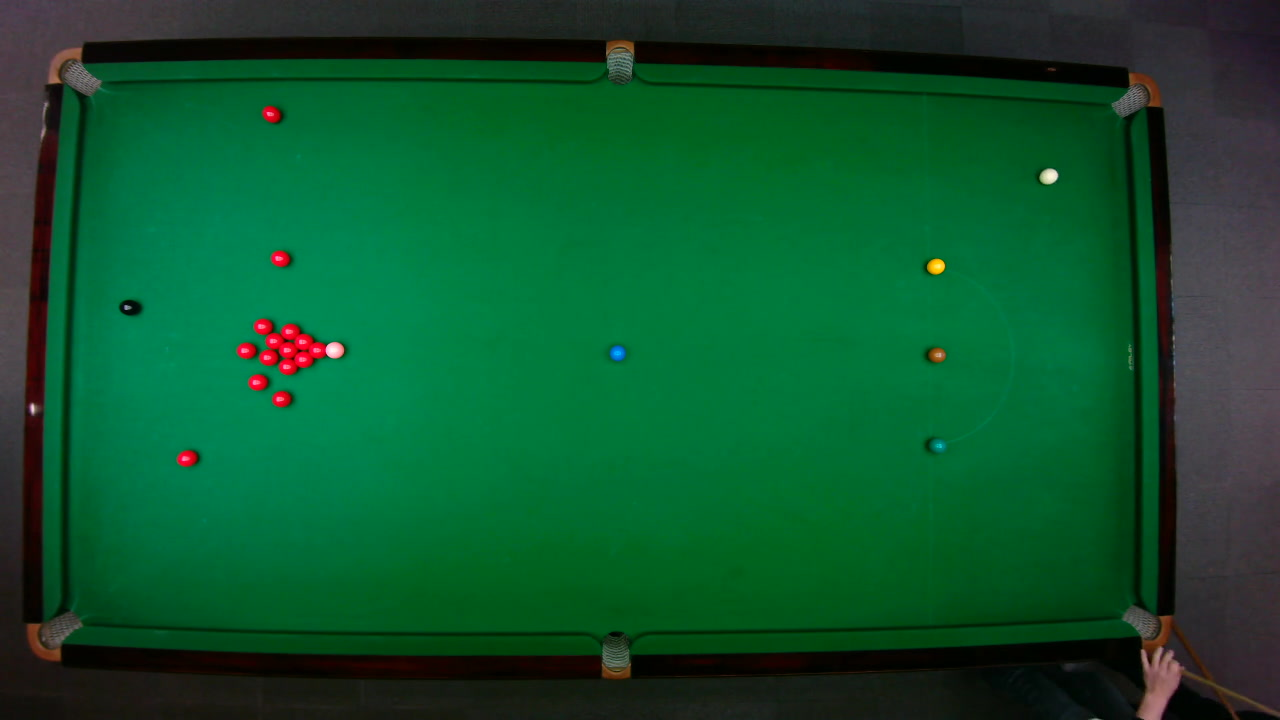bag: (25, 609, 83, 661), (45, 46, 101, 96), (1108, 71, 1161, 118), (1119, 603, 1171, 649), (600, 629, 629, 680), (605, 38, 633, 85)
black: (117, 298, 139, 315)
blue: (608, 344, 626, 361)
brown: (926, 346, 946, 362)
cue: (1121, 603, 1277, 717)
green: (926, 436, 946, 453)
pink: (323, 340, 345, 359)
red: (260, 104, 282, 123), (270, 389, 292, 408), (175, 448, 197, 467), (246, 372, 268, 390), (252, 317, 273, 335), (269, 249, 290, 267), (234, 341, 256, 358), (292, 350, 314, 367), (257, 348, 278, 365), (292, 332, 313, 349), (279, 322, 300, 339), (307, 340, 325, 359), (277, 358, 297, 375), (264, 331, 284, 348)
white: (1037, 166, 1058, 185)
yellow: (925, 257, 946, 274)
zone: (926, 266, 1013, 444)
